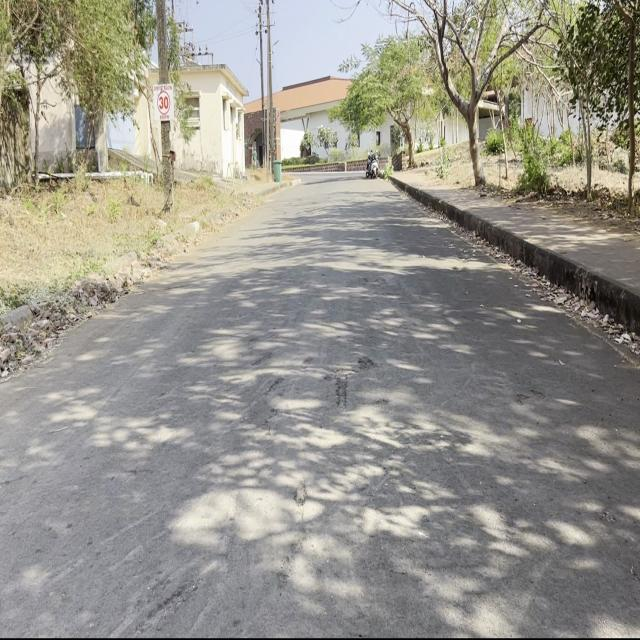Road: (1, 176, 640, 636)
